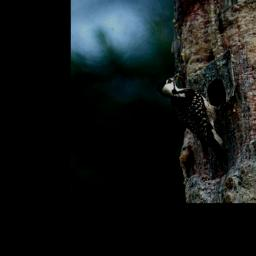Woodpecker: (155, 71, 227, 170)
